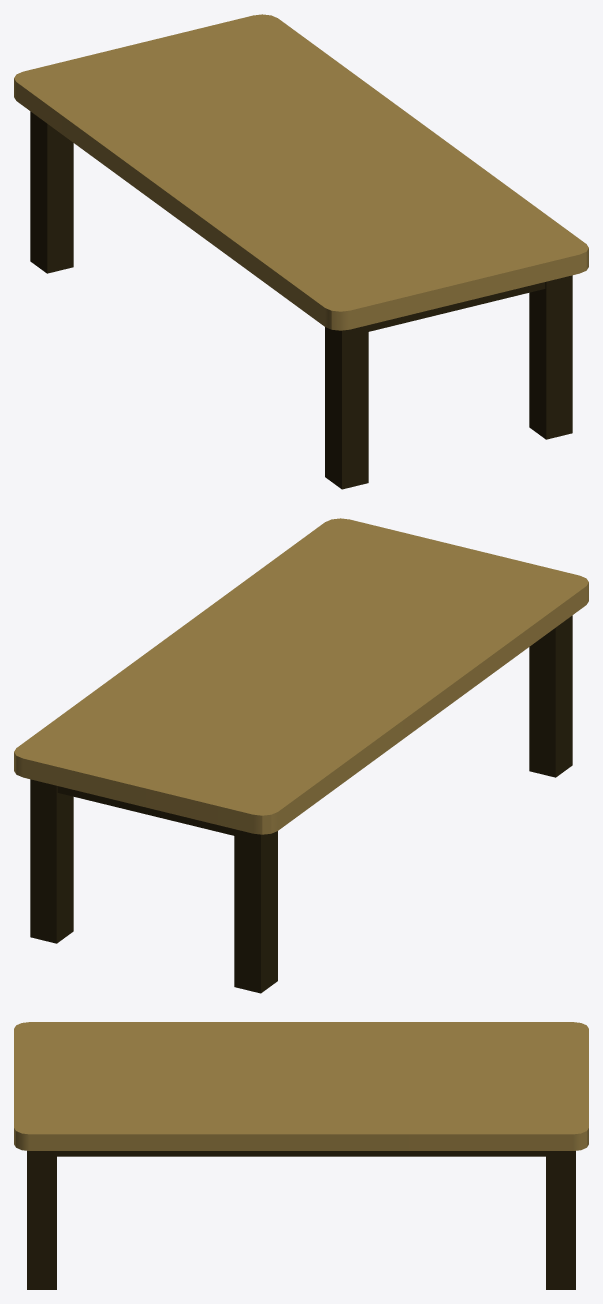
File: table_01.fbx
The picture shows the model from 3 angles, top to bottom: view 1: azimuth 30°, elevation 25°; view 2: azimuth 150°, elevation 25°; view 3: azimuth 270°, elevation 25°; orthographic projection. The views are drawn at different scales.
Visible parts, largest first — view 1: polySurface4, polySurface3; view 2: polySurface4, polySurface3; view 3: polySurface4, polySurface3.
Boxes of the visible parts, x1,y1,x2,y2 form: polySurface4: [14, 14, 588, 330]; polySurface3: [30, 111, 572, 489]; polySurface4: [14, 518, 588, 834]; polySurface3: [30, 615, 572, 993]; polySurface4: [14, 1022, 588, 1150]; polySurface3: [27, 1151, 575, 1289].
Size of the model in its own units: 3.9 by 2.63 by 8.44.
